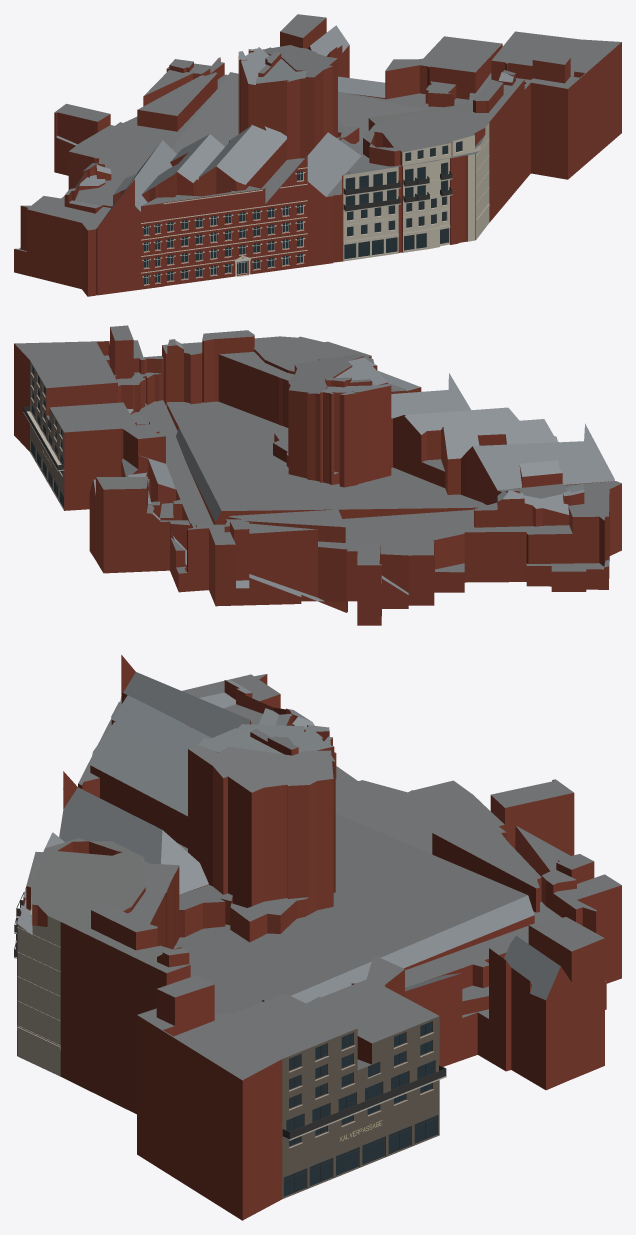
The model's file is recipe-large-singel-457-165086.glb.
3 renders of one model, top to bottom at view 1: azimuth 30°, elevation 25°; view 2: azimuth 150°, elevation 25°; view 3: azimuth 270°, elevation 25°, orthographic. The views are drawn at different scales.
Visible parts, largest first — view 1: singel-457-165086; view 2: singel-457-165086; view 3: singel-457-165086.
Part boxes in pixels (box(x1,y1,x2,y2)): singel-457-165086: box(14, 14, 621, 296); singel-457-165086: box(14, 325, 621, 625); singel-457-165086: box(14, 655, 621, 1220).
Size of the model in its own units: 130 by 33.43 by 74.55.
